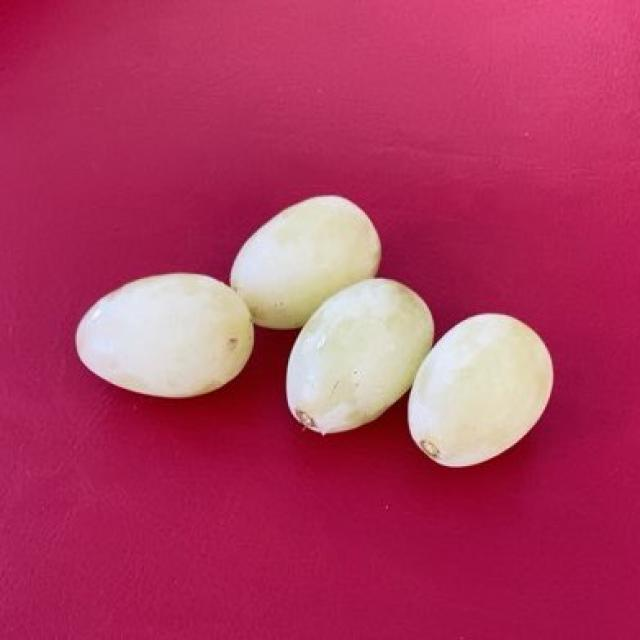grapes: (71, 190, 559, 472)
